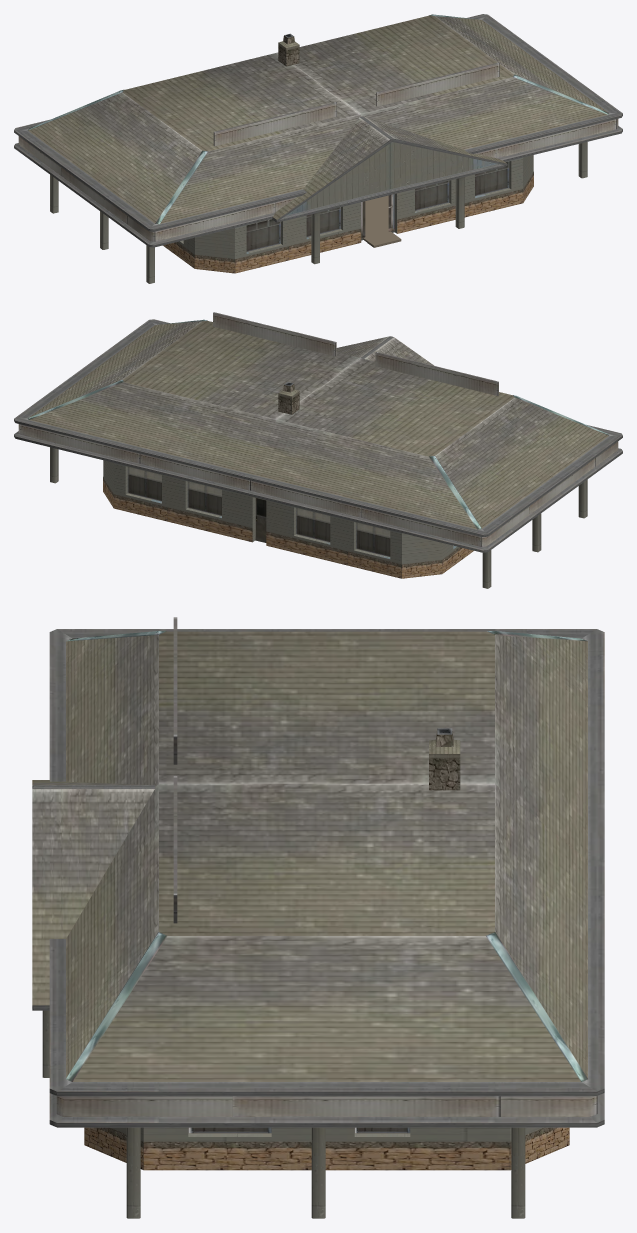
The model's file is rural-wood-4.walls-v1.lod0.glb.
3 renders of one model, top to bottom at view 1: azimuth 30°, elevation 25°; view 2: azimuth 150°, elevation 25°; view 3: azimuth 270°, elevation 25°, orthographic. The views are drawn at different scales.
Visible parts, largest first — view 1: Rural_WoodenBuilding_4_Rural_Housetrim_1_0, Rural_WoodenBuilding_4_Rural_Facade_FLR_2_0, Rural_WoodenBuilding_4_Rural_Walltrim_1_0, Walkable floors and stairs; view 2: Rural_WoodenBuilding_4_Rural_Housetrim_1_0, Rural_WoodenBuilding_4_Rural_Facade_FLR_2_0, Rural_WoodenBuilding_4_Rural_Walltrim_1_0; view 3: Rural_WoodenBuilding_4_Rural_Housetrim_1_0, Rural_WoodenBuilding_4_Rural_Facade_FLR_2_0, Rural_WoodenBuilding_4_Rural_Walltrim_1_0.
Boxes of the visible parts, left/top/right/bottom form: Rural_WoodenBuilding_4_Rural_Housetrim_1_0: left=14, top=14, right=622, bottom=273; Rural_WoodenBuilding_4_Rural_Facade_FLR_2_0: left=18, top=14, right=618, bottom=251; Rural_WoodenBuilding_4_Rural_Walltrim_1_0: left=50, top=142, right=587, bottom=283; Walkable floors and stairs: left=363, top=195, right=401, bottom=247; Rural_WoodenBuilding_4_Rural_Housetrim_1_0: left=14, top=319, right=622, bottom=578; Rural_WoodenBuilding_4_Rural_Facade_FLR_2_0: left=18, top=312, right=618, bottom=556; Rural_WoodenBuilding_4_Rural_Walltrim_1_0: left=50, top=447, right=587, bottom=588; Rural_WoodenBuilding_4_Rural_Housetrim_1_0: left=32, top=629, right=604, bottom=1170; Rural_WoodenBuilding_4_Rural_Facade_FLR_2_0: left=56, top=617, right=597, bottom=1133; Rural_WoodenBuilding_4_Rural_Walltrim_1_0: left=42, top=1010, right=542, bottom=1218.
Bounding box in the file's own units: 27.73 × 7.64 × 14.49.
Materials: 4 (3 with a texture image).
